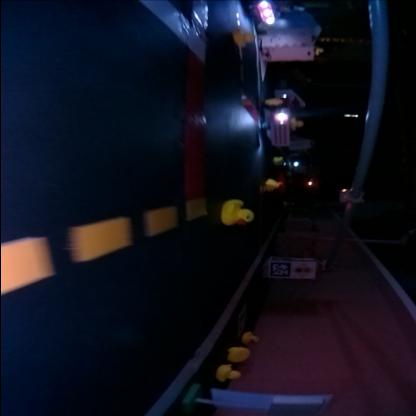Duckie: (224, 200, 252, 226), (226, 347, 250, 364), (216, 366, 241, 382), (233, 32, 255, 46), (242, 333, 258, 344), (265, 178, 279, 190), (292, 120, 300, 130)
QR code: (268, 263, 290, 278)
Signal sign: (296, 262, 314, 278)
Traffic light: (340, 190, 364, 206)
